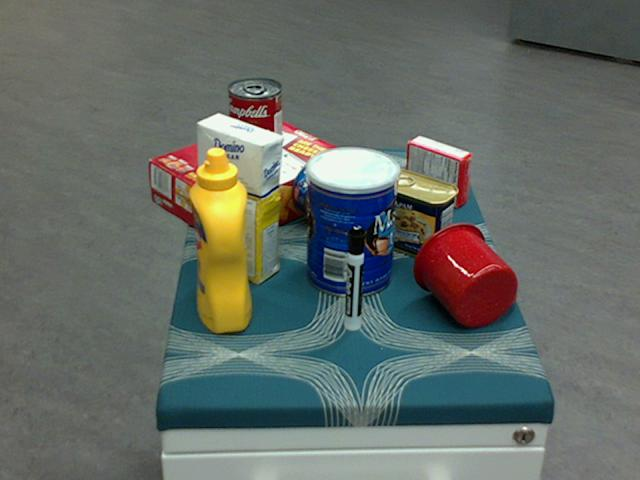cracker_box: (148, 116, 351, 250)
gelatin_box: (406, 136, 473, 207)
large_marker: (345, 226, 364, 332)
master_chef_can: (306, 146, 399, 297)
mug: (413, 222, 518, 327)
mustard_bottle: (189, 148, 251, 333)
potted_meat_can: (372, 168, 458, 258)
sugar_box: (197, 114, 282, 285)
tomato_soup_can: (227, 78, 283, 172)
tuna_fish_can: (290, 154, 359, 224)
